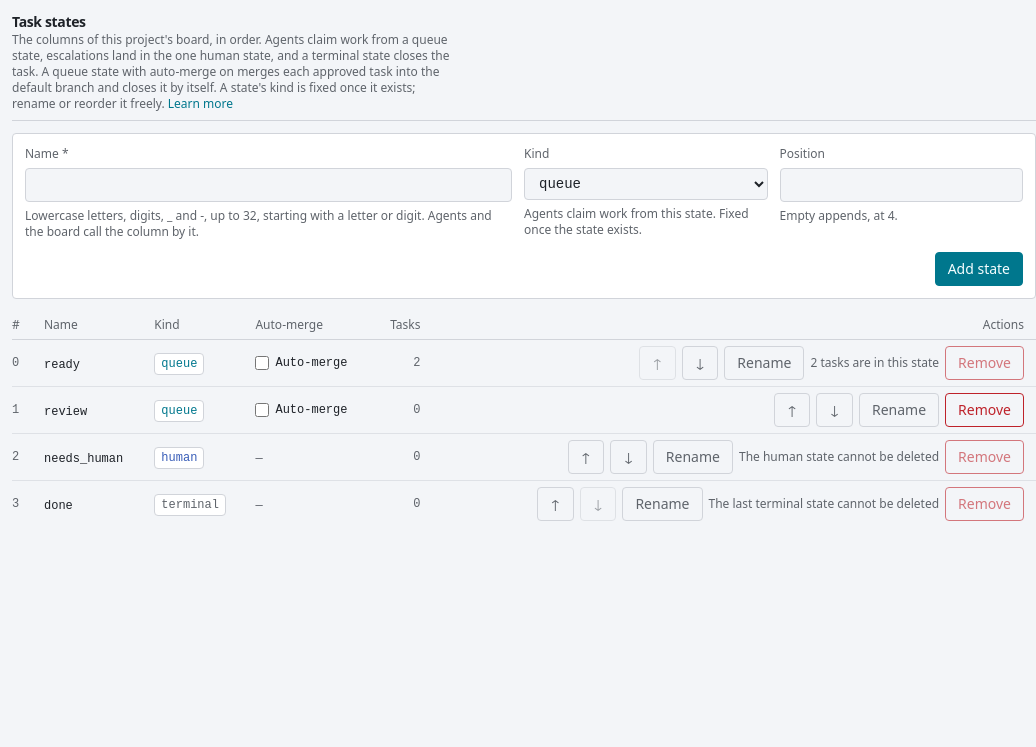
Test case: TaskStatesEditor › shows an auto-merge refusal in the row's words
Click the checkbox labelled "Auto-merge" in the row of "review".
click(262, 410)  # box top-left (256, 403), bottom-right (270, 417)
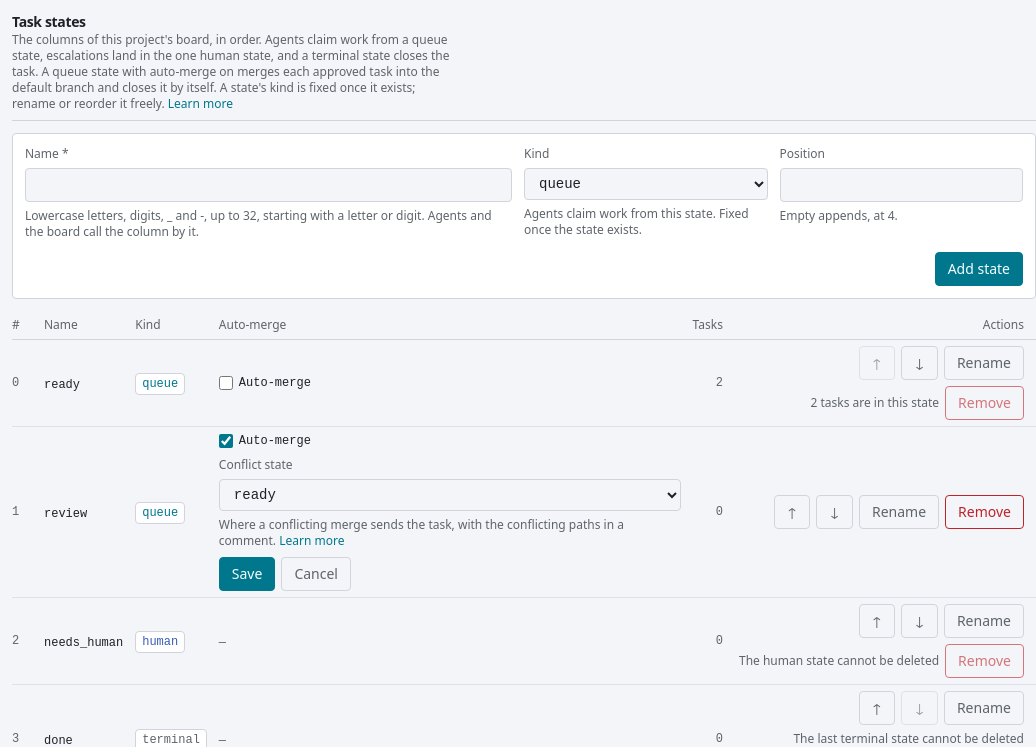
Click the button "Save".
click(247, 574)  # box top-left (219, 557), bottom-right (275, 591)
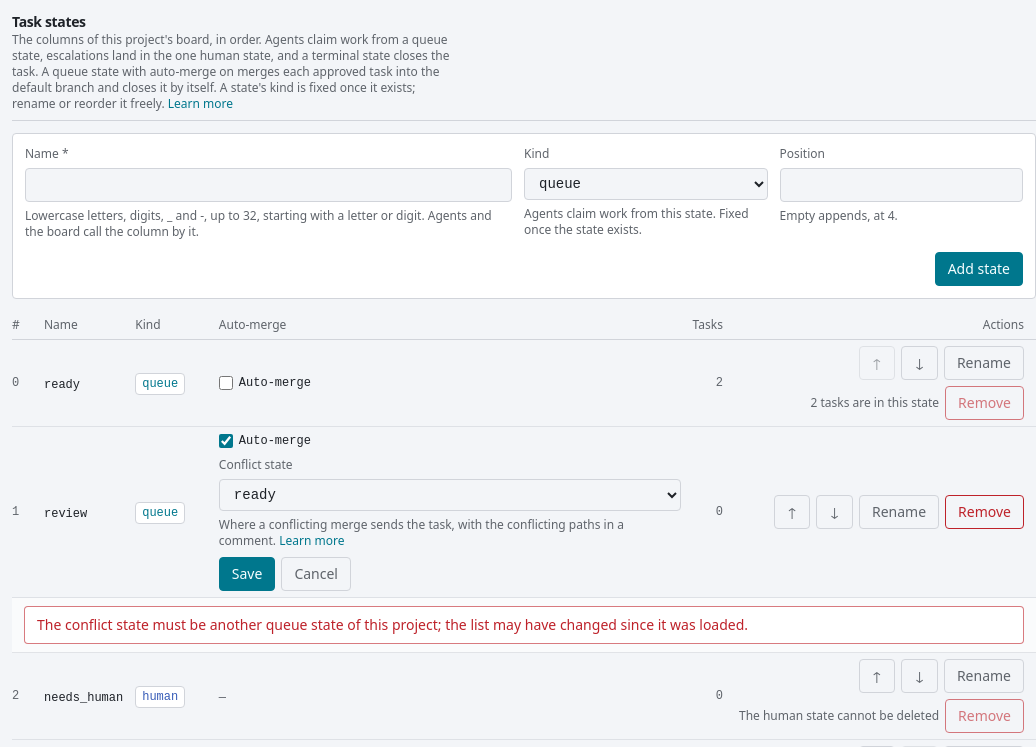
expect the text "must be another queue state of this project" is shown: met, box top-left (37, 615), bottom-right (748, 634)
